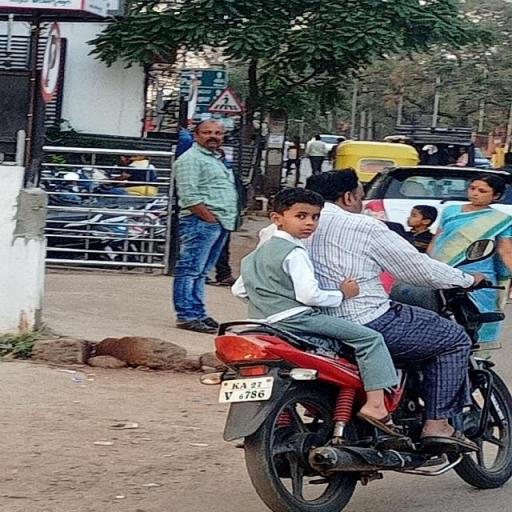bike: (211, 168, 512, 512)
numberplate: (217, 378, 273, 400)
withouthelmet: (272, 190, 322, 235), (308, 170, 361, 206)
